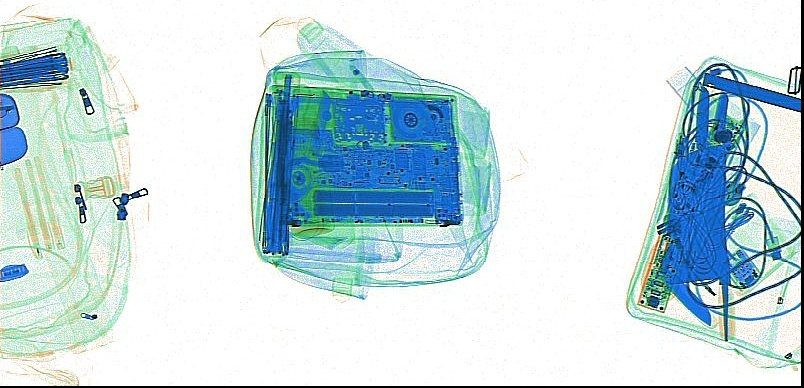knife: (666, 143, 736, 341), (700, 71, 799, 112), (664, 270, 719, 328), (693, 85, 709, 153), (709, 90, 729, 142)
